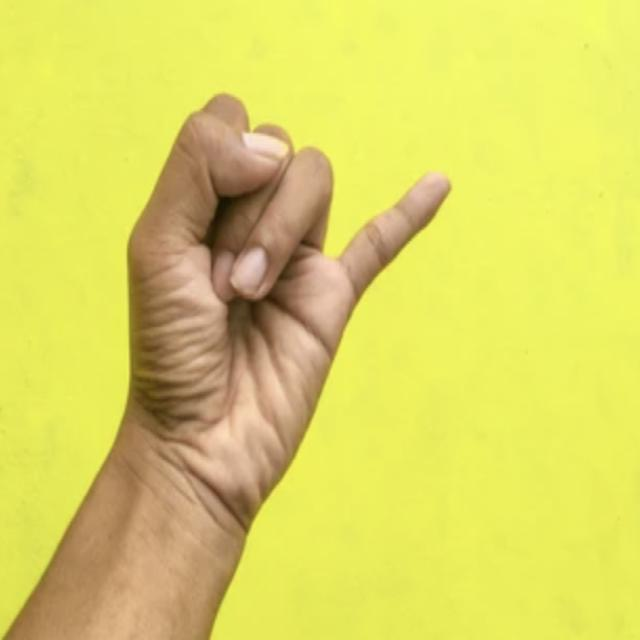pinky: (328, 162, 462, 304)
